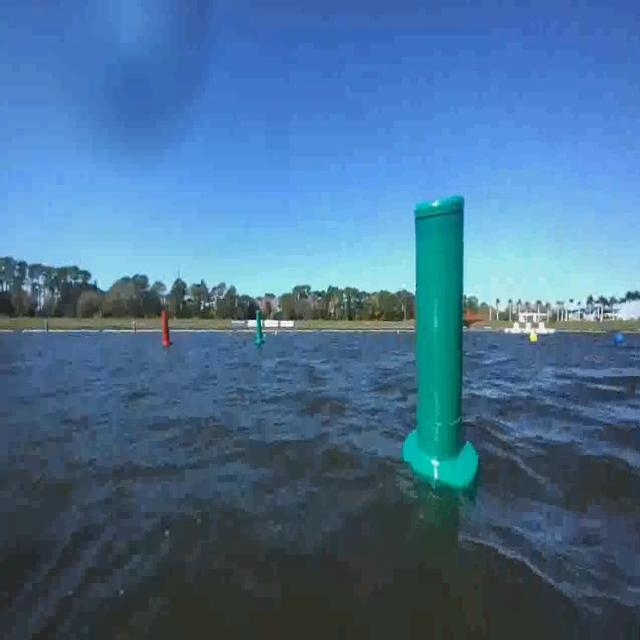blue-buoy: (615, 332, 627, 348)
green-column-buoy: (404, 196, 477, 492), (256, 312, 268, 348)
red-column-buoy: (159, 312, 171, 349)
yellow-buoy: (529, 331, 539, 347)
